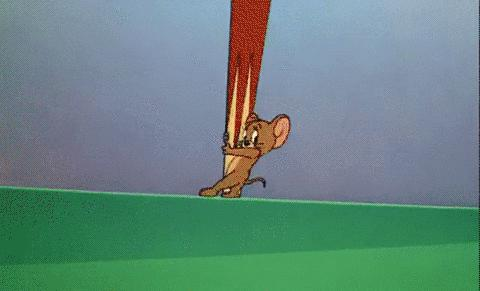jerry: (197, 111, 293, 202)
